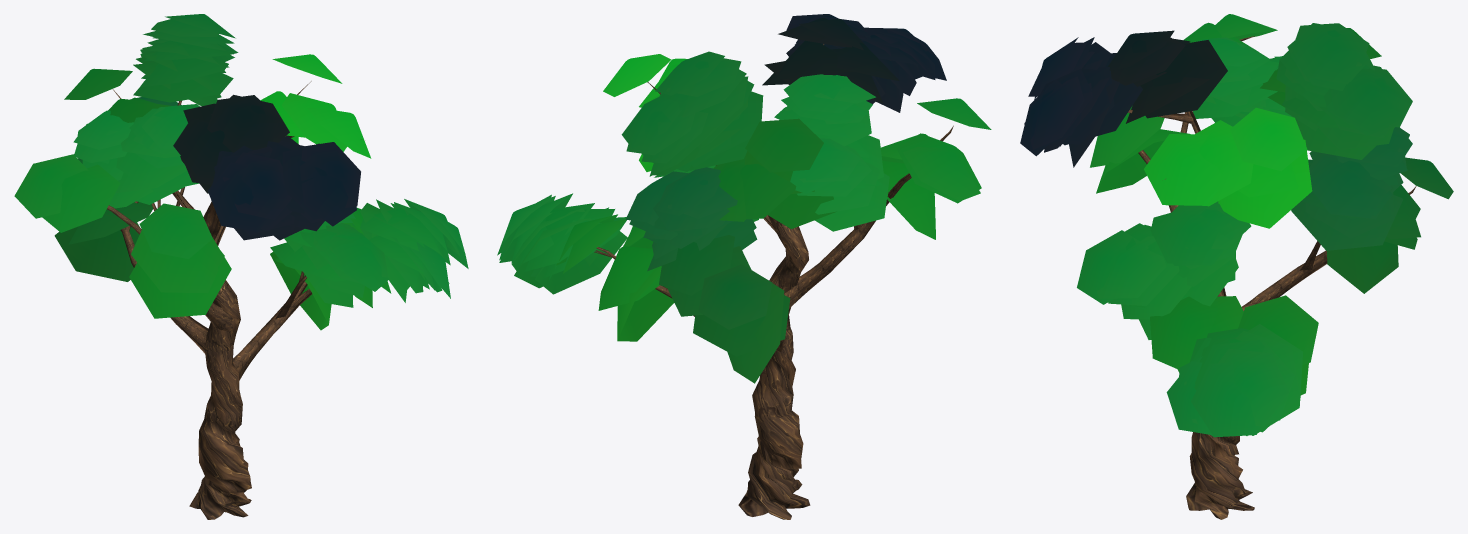
The model's file is FantasyTree8.fbx.
3 views of the same model, side by side, from view 1: azimuth 30°, elevation 25°; view 2: azimuth 150°, elevation 25°; view 3: azimuth 270°, elevation 25° (orthographic). The views are drawn at different scales.
Visible parts, largest first — view 1: fantasyleaf1_alpha_1, tree2_0; view 2: fantasyleaf1_alpha_1, tree2_0; view 3: fantasyleaf1_alpha_1, tree2_0.
Part boxes in pixels (x1,y1,x2,y2): fantasyleaf1_alpha_1: [14, 14, 468, 330]; tree2_0: [107, 81, 361, 519]; fantasyleaf1_alpha_1: [497, 14, 991, 383]; tree2_0: [594, 44, 953, 519]; fantasyleaf1_alpha_1: [1020, 14, 1453, 437]; tree2_0: [1128, 36, 1416, 519].
Bounding box in the file's own units: 1000 × 997 × 810.
Materials: 1 (1 with a texture image).
